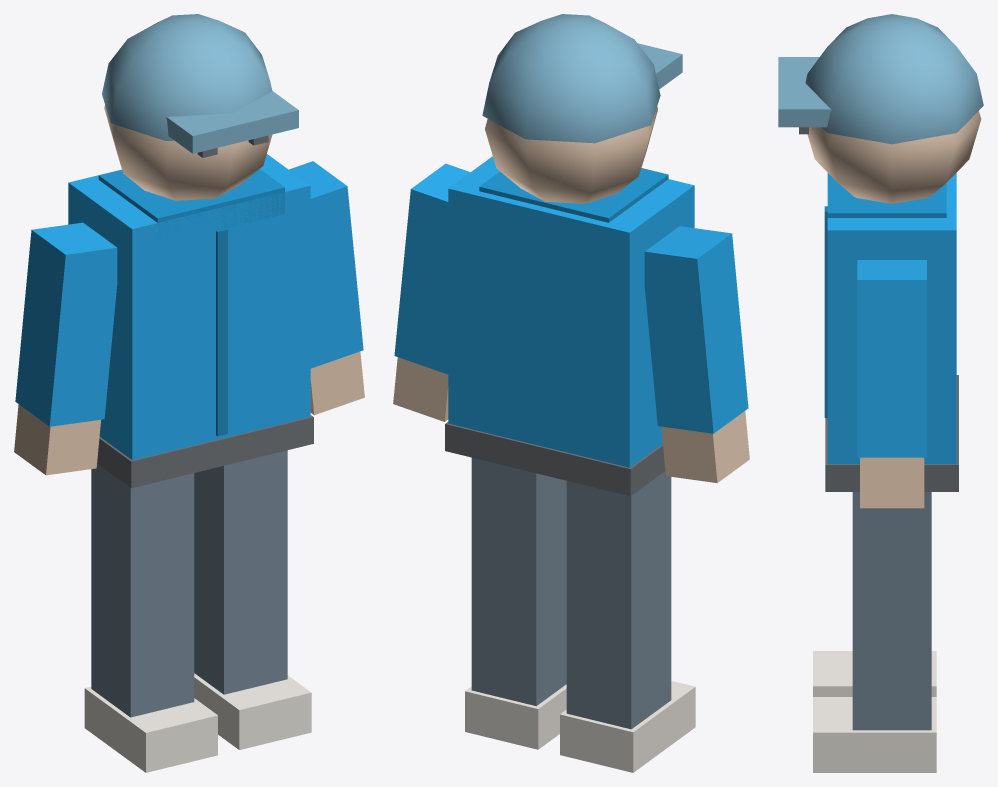
Rendered from actor_1.glb.
3 renders of one model, left to right at view 1: azimuth 30°, elevation 25°; view 2: azimuth 150°, elevation 25°; view 3: azimuth 270°, elevation 25°, orthographic.
Parts seen in each view (by area): view 1: pedestrian:cffffff, leg_0:cffffff, leg_1:cffffff, arm_0:cffffff, arm_1:cffffff; view 2: pedestrian:cffffff, leg_0:cffffff, leg_1:cffffff, arm_0:cffffff, arm_1:cffffff; view 3: pedestrian:cffffff, leg_1:cffffff, arm_1:cffffff, leg_0:cffffff.
Part boxes in pixels (bbox=[...]): pedestrian:cffffff: bbox=[68, 14, 313, 488]; leg_0:cffffff: bbox=[84, 463, 217, 772]; leg_1:cffffff: bbox=[194, 450, 311, 749]; arm_0:cffffff: bbox=[14, 222, 117, 475]; arm_1:cffffff: bbox=[289, 161, 364, 415]; pedestrian:cffffff: bbox=[445, 14, 694, 496]; leg_0:cffffff: bbox=[560, 471, 695, 772]; leg_1:cffffff: bbox=[465, 457, 566, 749]; arm_0:cffffff: bbox=[644, 226, 749, 483]; arm_1:cffffff: bbox=[393, 163, 470, 421]; pedestrian:cffffff: bbox=[778, 14, 983, 491]; leg_1:cffffff: bbox=[813, 492, 936, 772]; arm_1:cffffff: bbox=[857, 260, 926, 508]; leg_0:cffffff: bbox=[813, 651, 936, 696].
Bounding box in the file's own units: 0.7512 × 1.58 × 0.415.
